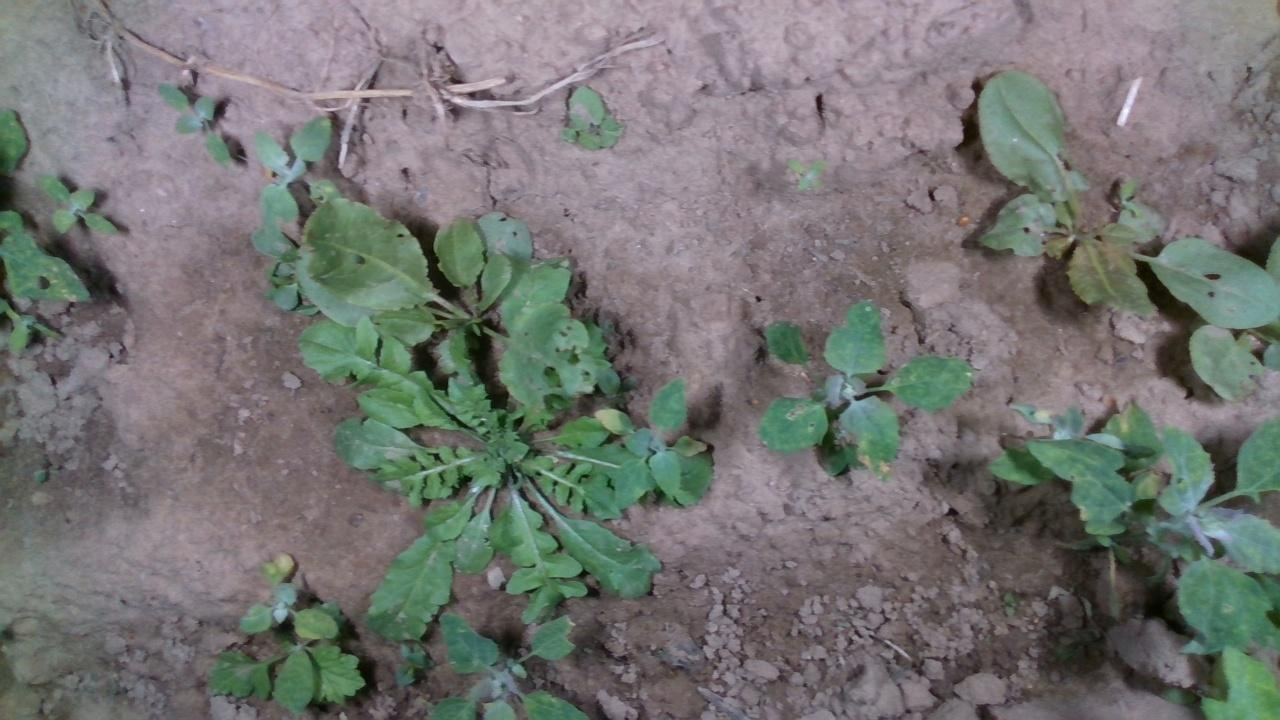weed: (786, 154, 829, 197)
